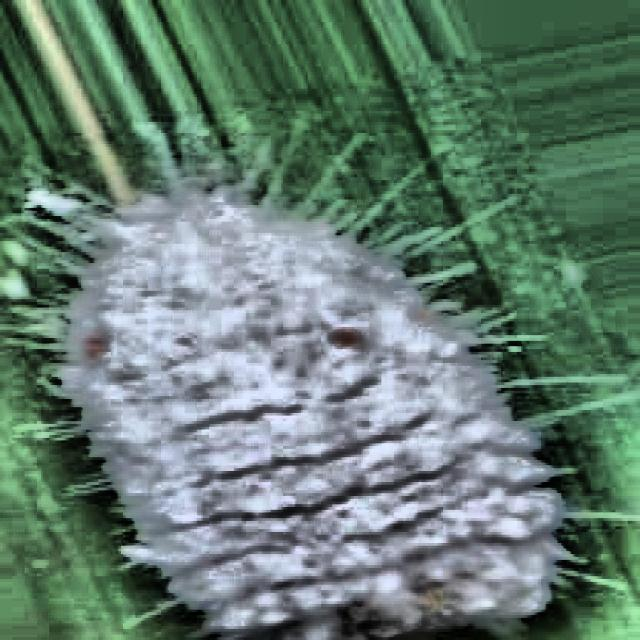Mealy-bug: (32, 127, 590, 640)
